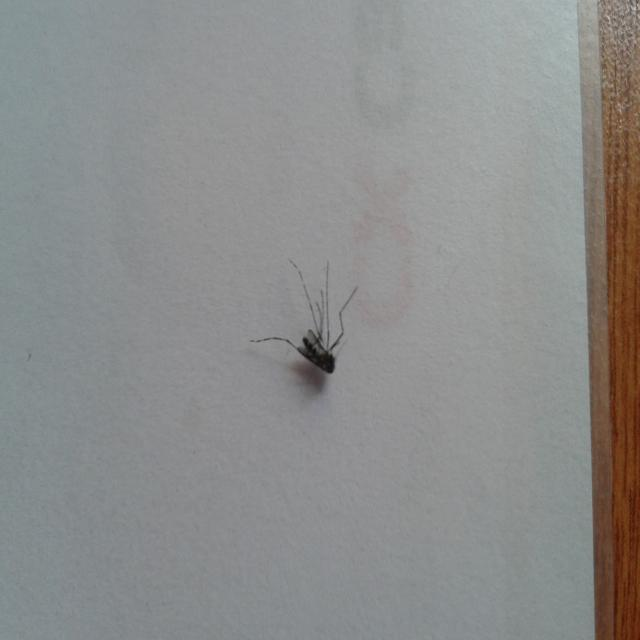albopictus: (251, 248, 359, 384)
